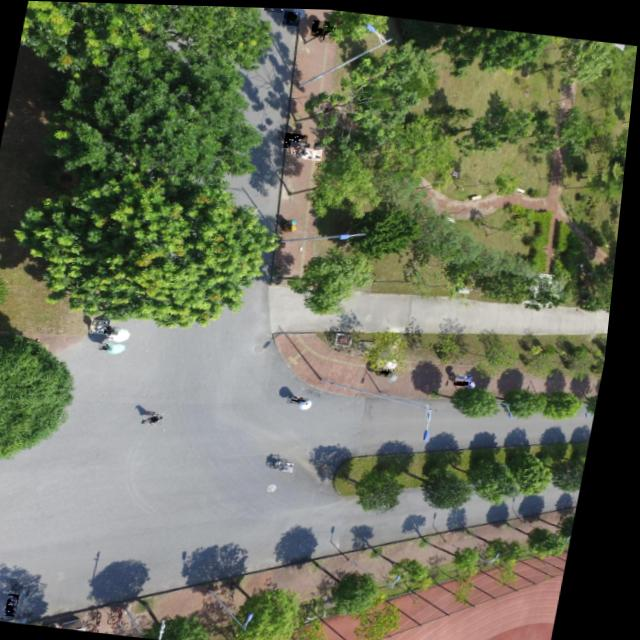Person: (285, 130, 310, 147), (16, 593, 31, 616), (309, 18, 329, 35), (149, 409, 171, 424), (291, 139, 313, 153), (319, 22, 335, 41), (95, 318, 114, 333), (305, 145, 325, 159), (281, 9, 299, 24), (297, 143, 316, 156), (293, 393, 316, 403), (286, 460, 303, 470), (382, 365, 400, 374), (110, 324, 125, 334), (382, 357, 398, 364), (460, 377, 478, 383), (104, 342, 119, 349), (112, 333, 127, 340), (262, 6, 282, 11), (462, 370, 474, 378)
